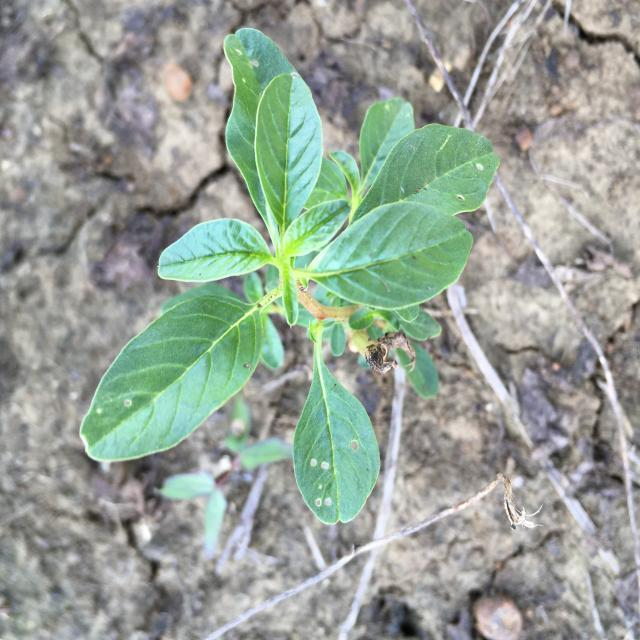Waterhemp: (80, 28, 500, 525)
